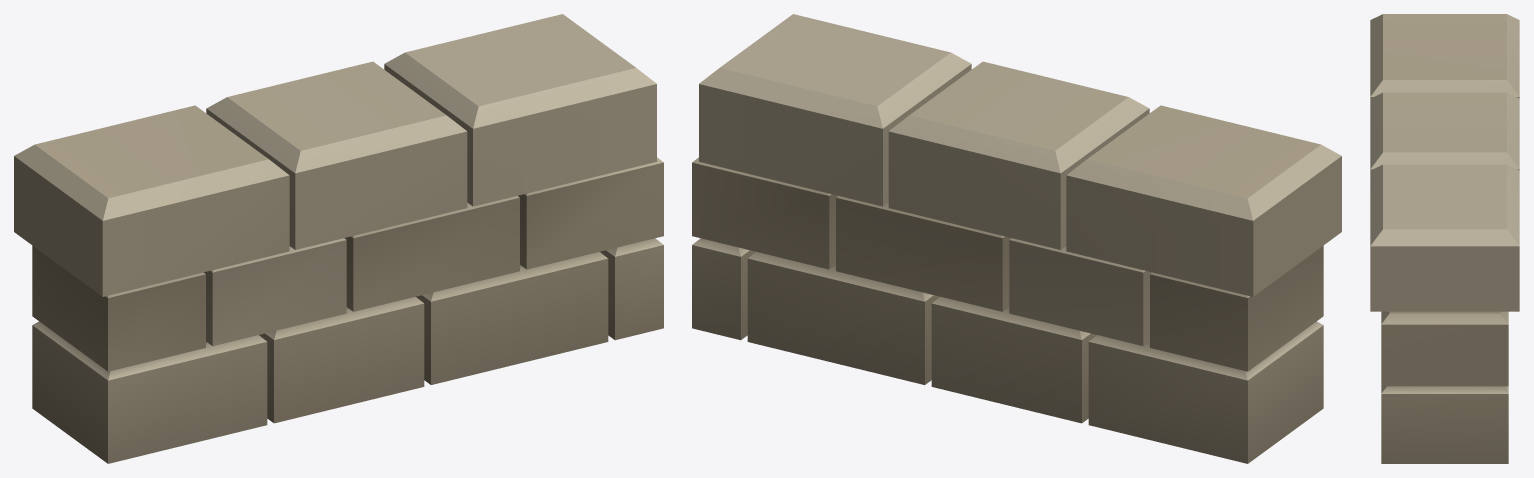
File: muret_bas.glb
3 renders of one model, left to right at view 1: azimuth 30°, elevation 25°; view 2: azimuth 150°, elevation 25°; view 3: azimuth 270°, elevation 25°, orthographic. The views are drawn at different scales.
Parts seen in each view (by area): view 1: muret_bas; view 2: muret_bas; view 3: muret_bas.
Boxes of the visible parts, x1=… form: muret_bas: x1=14, y1=14, x2=663, y2=463; muret_bas: x1=692, y1=14, x2=1341, y2=463; muret_bas: x1=1370, y1=14, x2=1519, y2=463.
Bounding box in the file's own units: 3.03 × 1.36 × 0.8201.
